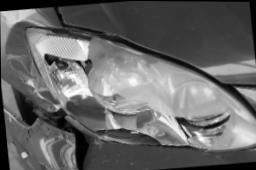Bumper: (2, 104, 123, 170)
Fender: (0, 8, 60, 112)
Light: (24, 28, 256, 150)
